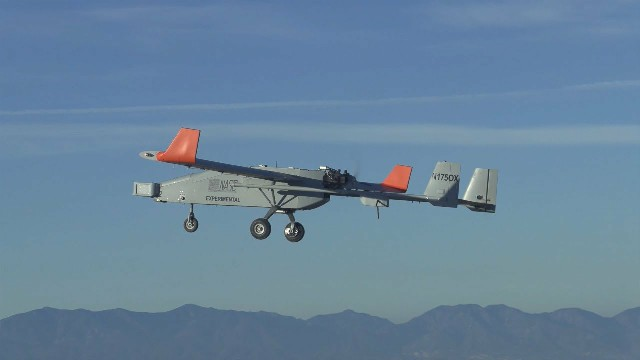maybay_khongnguoilai: (127, 130, 512, 237)
